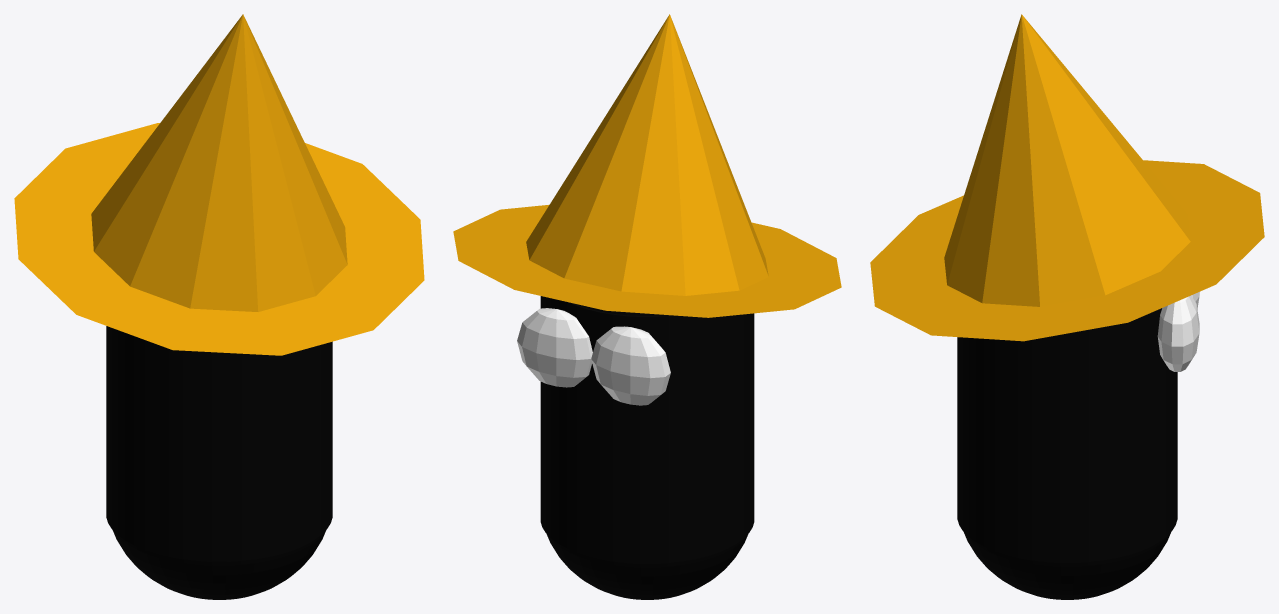
Rendered from Player.gltf.
The picture shows the model from 3 angles, left to right: view 1: azimuth 30°, elevation 25°; view 2: azimuth 150°, elevation 25°; view 3: azimuth 270°, elevation 25°; orthographic projection. The views are drawn at different scales.
Visible parts, largest first — view 1: hat, body; view 2: hat, body, eys; view 3: hat, body, eys.
Boxes of the visible parts, left/top/right/bottom form: hat: left=14, top=14, right=424, bottom=355; body: left=106, top=326, right=332, bottom=599; hat: left=453, top=14, right=841, bottom=317; body: left=540, top=296, right=754, bottom=599; eys: left=517, top=308, right=670, bottom=405; hat: left=870, top=14, right=1264, bottom=341; body: left=957, top=308, right=1177, bottom=599; eys: left=1157, top=292, right=1199, bottom=371.
Bounding box in the file's own units: 1.14 × 1.8 × 1.12.
Materials: 3 (3 with a texture image).
